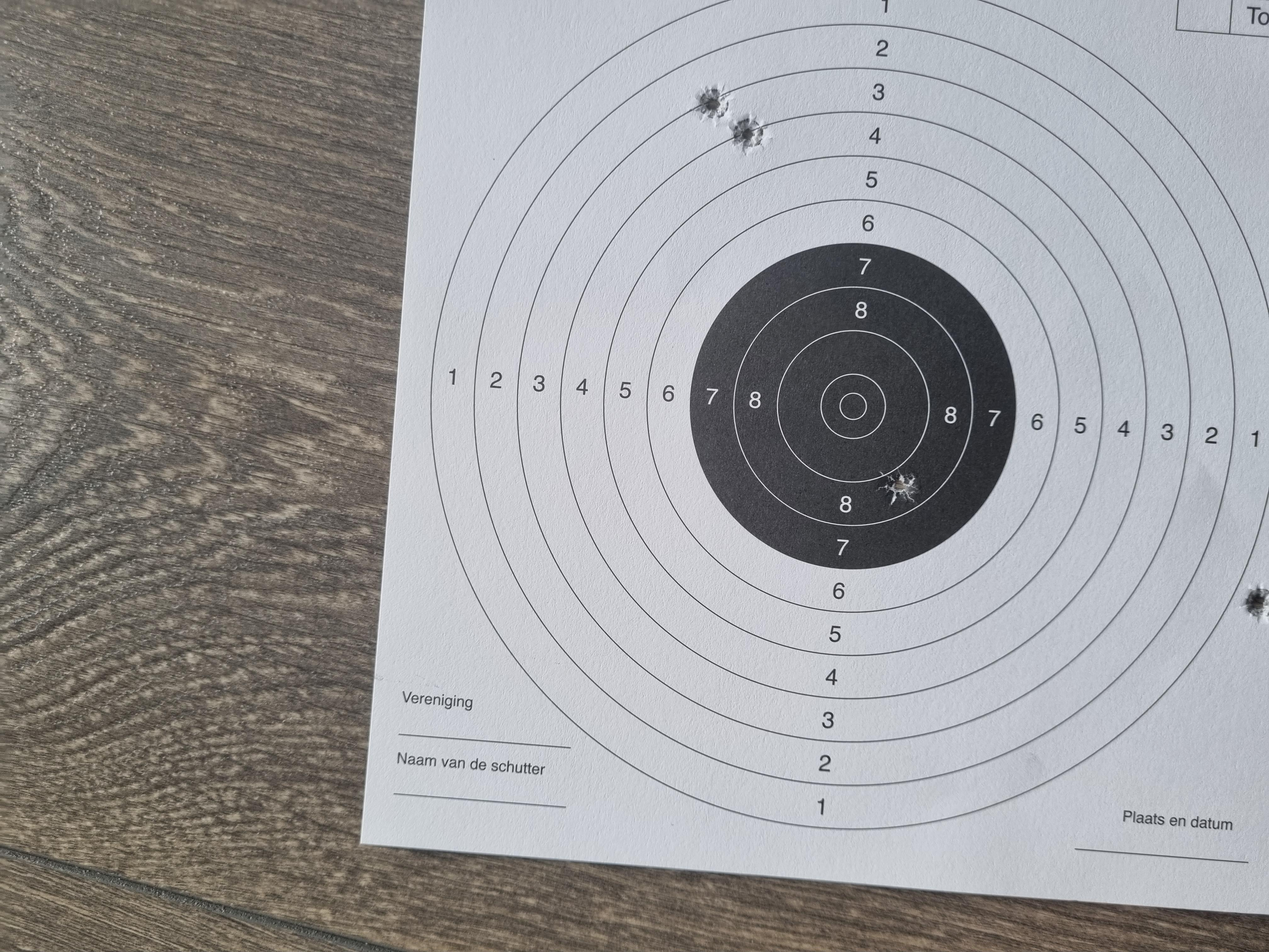hole: (1105, 522, 1165, 550), (591, 661, 645, 689), (1064, 548, 1121, 573), (441, 932, 490, 952)
